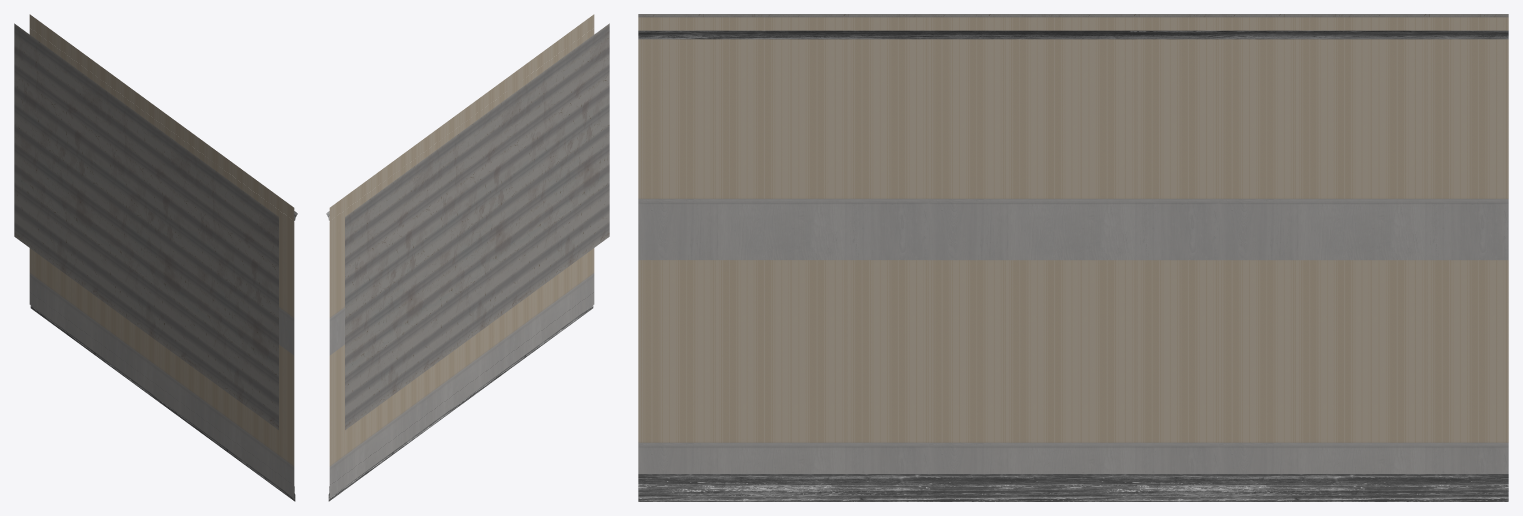
The model's file is SM_Wall_Floor2_600.fbx.
The picture shows the model from 3 angles, left to right: view 1: azimuth 30°, elevation 25°; view 2: azimuth 150°, elevation 25°; view 3: azimuth 270°, elevation 25°; orthographic projection. The views are drawn at different scales.
Visible parts, largest first — view 1: SM_Wall_Floor2_600; view 2: SM_Wall_Floor2_600; view 3: SM_Wall_Floor2_600.
Boxes of the visible parts, x1,y1,x2,y2 form: SM_Wall_Floor2_600: [14, 14, 297, 501]; SM_Wall_Floor2_600: [326, 14, 609, 501]; SM_Wall_Floor2_600: [638, 14, 1508, 501].
Size of the model in its own units: 17.23 by 420 by 258.
Materials: 3 (3 with a texture image).
